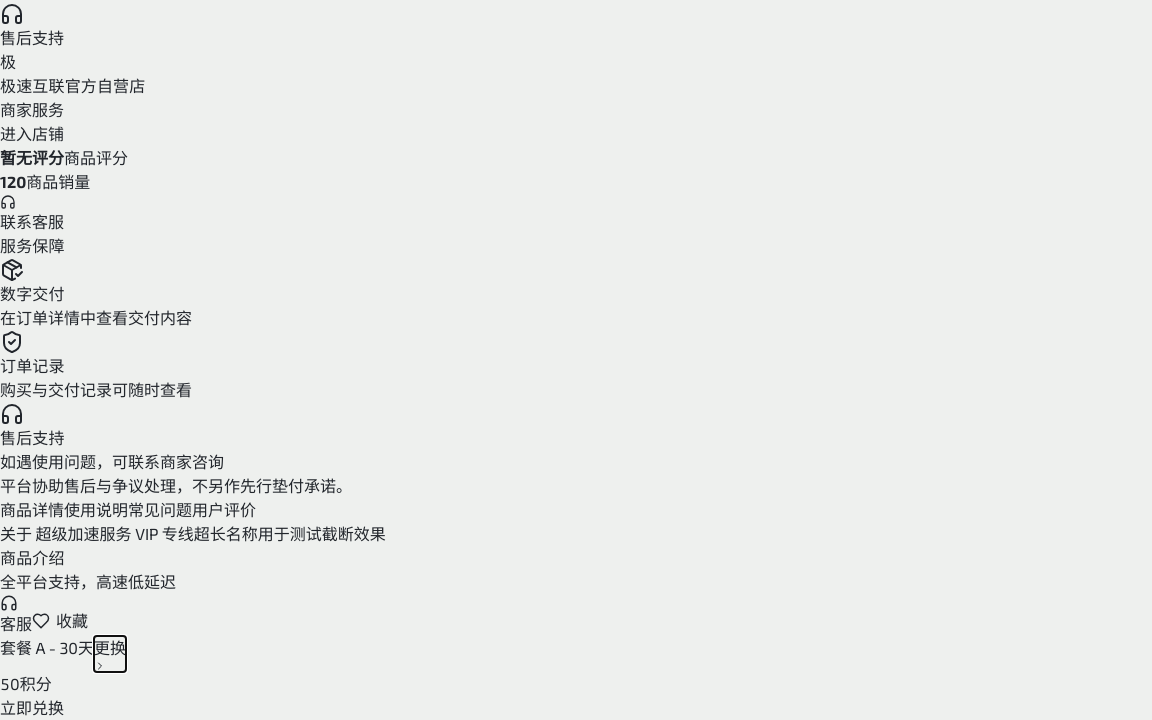
Product detail keyboard navigation › returns focus to the mobile change button when Escape closes its drawer
(page scrolled)
Click the button with aria-label "更换套餐": {"x": 110, "y": 654} [94,636,126,672]
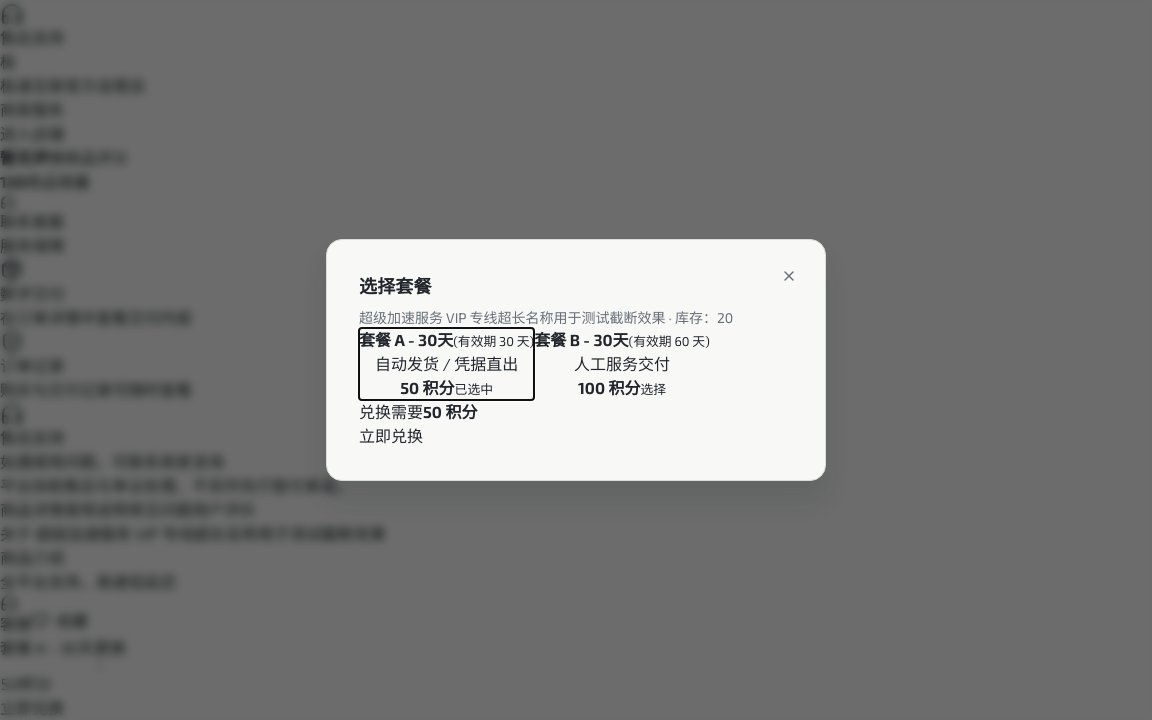
Press Escape in the dialog, box [326,239,826,481]
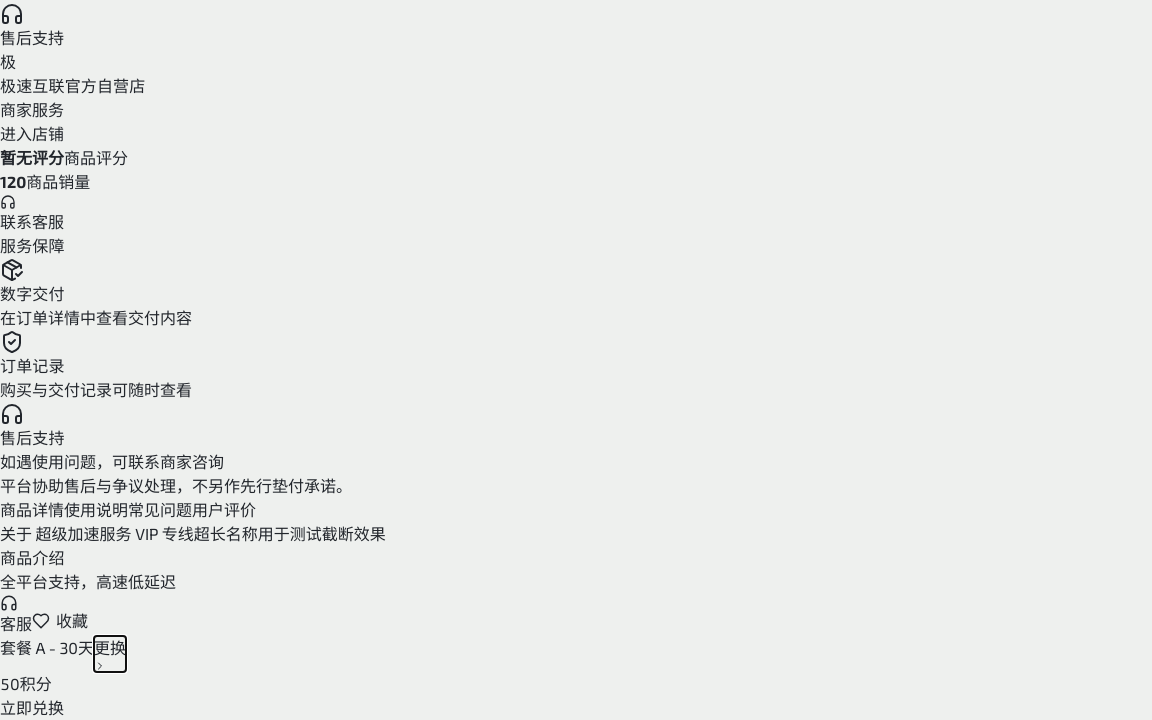
Expected: the element with test id "mobile-sku-sheet-list" is gone
